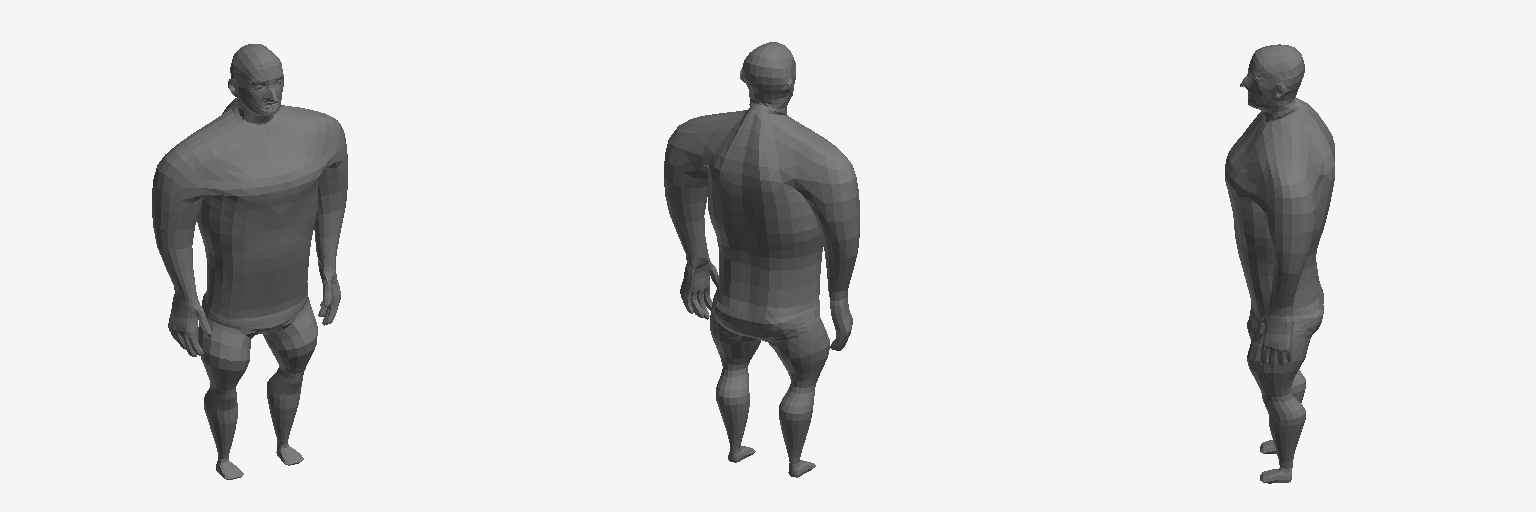
File: sahil_protagonist.obj
3 renders of one model, left to right at view 1: azimuth 30°, elevation 25°; view 2: azimuth 150°, elevation 25°; view 3: azimuth 270°, elevation 25°, orthographic.
Visible parts, largest first — view 1: Object001; view 2: Object001; view 3: Object001.
Boxes of the visible parts, x1=… form: Object001: x1=152, y1=44, x2=347, y2=479; Object001: x1=664, y1=42, x2=859, y2=477; Object001: x1=1225, y1=44, x2=1334, y2=483.
Bounding box in the file's own units: 86.2 × 182 × 43.38.